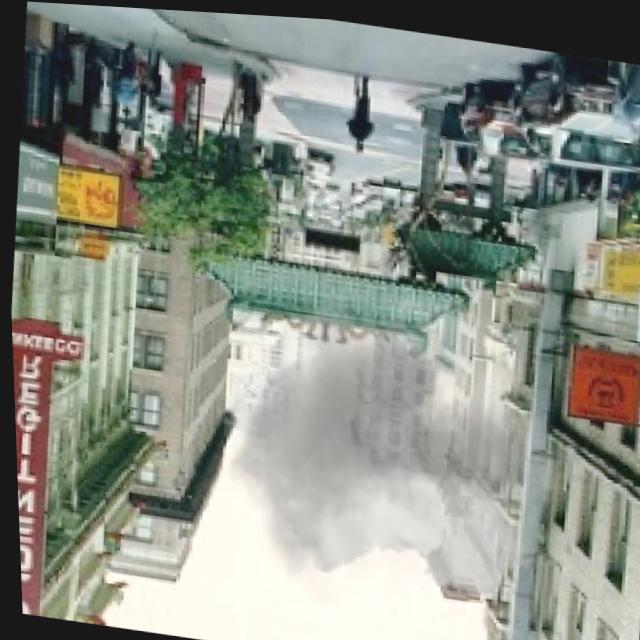no_helmet: (188, 242, 567, 640)
